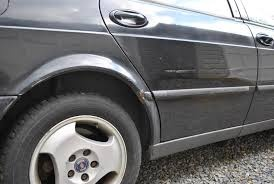Scratch: (162, 66, 196, 75)
